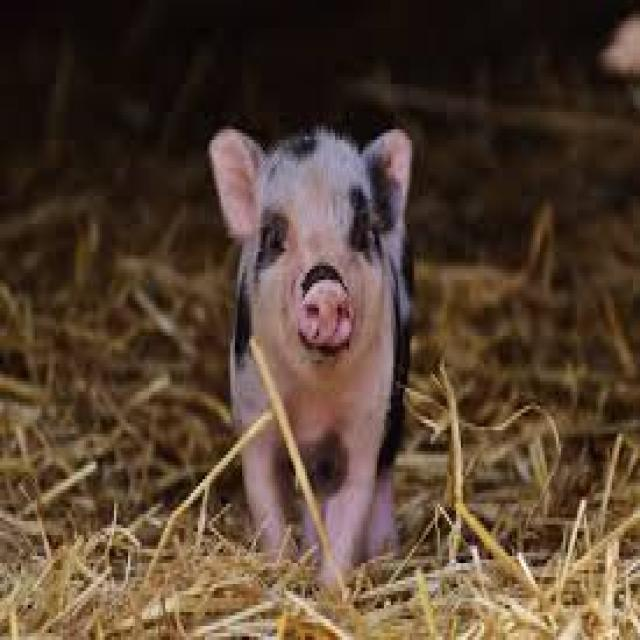Pig: (195, 108, 438, 611)
